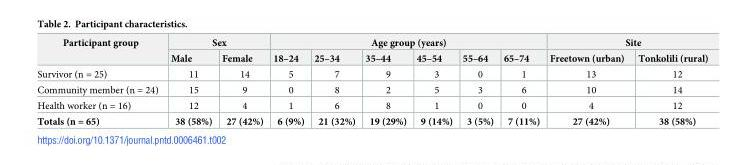table: (36, 37, 707, 126)
table column: (36, 37, 163, 126), (544, 37, 630, 126), (630, 37, 707, 126), (163, 37, 216, 126), (216, 37, 267, 126), (308, 37, 359, 126), (359, 37, 410, 126), (410, 37, 457, 126), (498, 37, 544, 126), (267, 37, 308, 126), (457, 37, 498, 126)
table column header: (36, 37, 707, 65)
table row: (36, 65, 707, 81), (36, 81, 707, 97), (36, 97, 707, 113), (36, 50, 707, 65), (36, 37, 707, 50), (36, 113, 707, 126)
table spanning cell: (267, 37, 544, 50), (36, 37, 163, 65), (544, 37, 707, 50), (163, 37, 267, 50)
